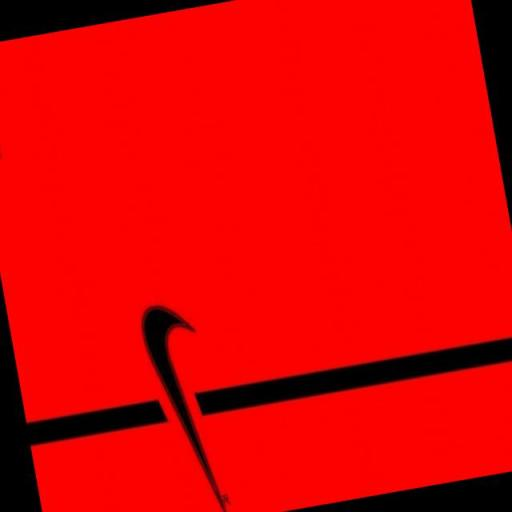Nike: (125, 285, 234, 512)
